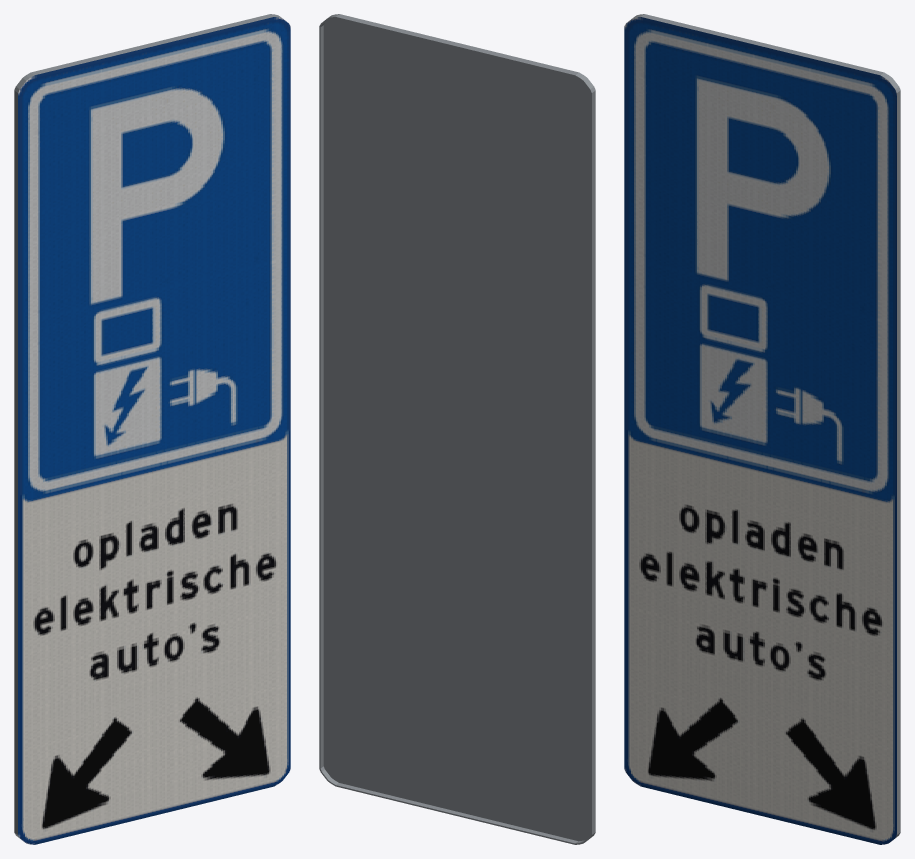
3 views of the same model, side by side, from view 1: azimuth 30°, elevation 25°; view 2: azimuth 150°, elevation 25°; view 3: azimuth 330°, elevation 25° (orthographic).
Visible parts, largest first — view 1: cat_8a00d93e2ba2536e; view 2: cat_8a00d93e2ba2536e; view 3: cat_8a00d93e2ba2536e.
Boxes of the visible parts, x1=… form: cat_8a00d93e2ba2536e: x1=14, y1=14, x2=290, y2=844; cat_8a00d93e2ba2536e: x1=319, y1=14, x2=595, y2=844; cat_8a00d93e2ba2536e: x1=624, y1=14, x2=900, y2=844.
Bounding box in the file's own units: 0.6 × 0.015 × 1.62.
Materials: 2 (1 with a texture image).
